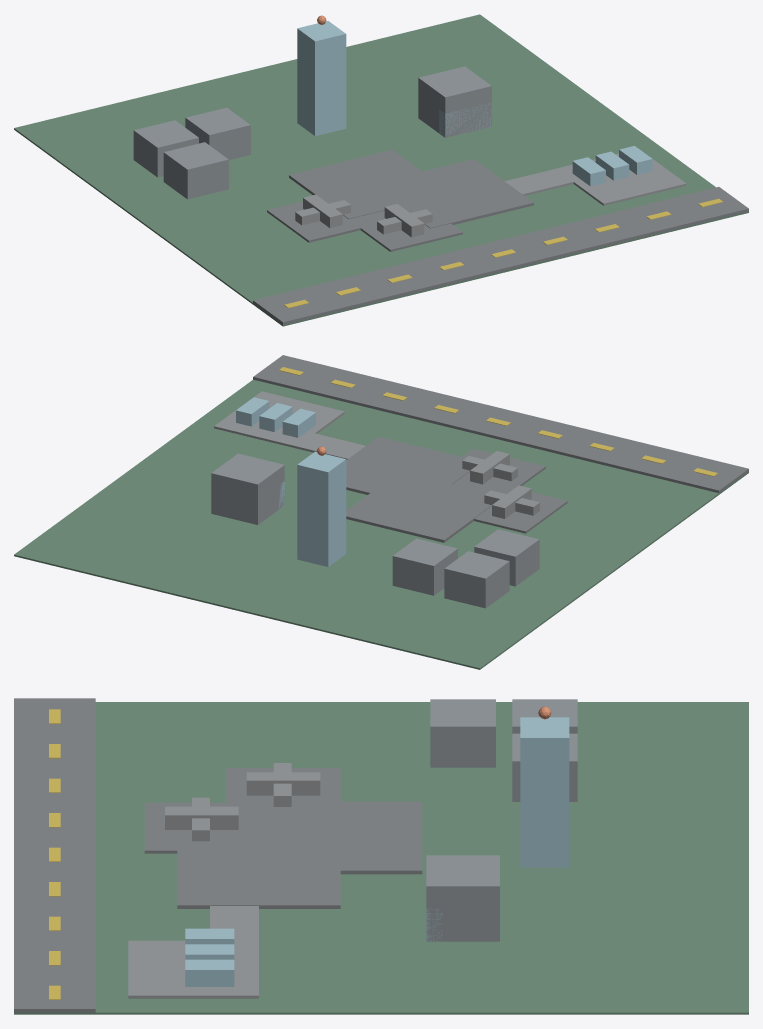
The model's file is stage_11.glb.
3 views of the same model, one above another, from view 1: azimuth 30°, elevation 25°; view 2: azimuth 150°, elevation 25°; view 3: azimuth 270°, elevation 25° (orthographic). The views are drawn at different scales.
Visible parts, largest first — view 1: geometry_0; view 2: geometry_0; view 3: geometry_0.
Boxes of the visible parts, x1,y1,x2,y2 form: geometry_0: [14, 14, 748, 326]; geometry_0: [14, 355, 748, 669]; geometry_0: [14, 698, 748, 1014].
Bounding box in the file's own units: 9 × 2.06 × 9.
